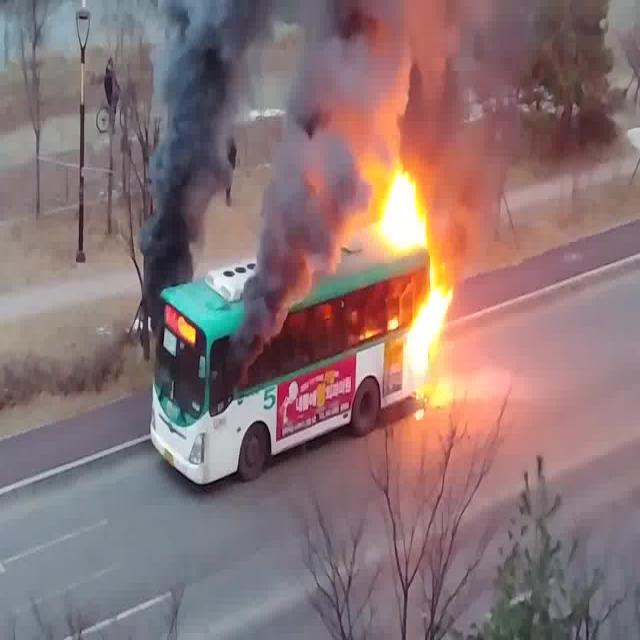fire: (379, 176, 454, 396)
smoke: (230, 0, 408, 399), (135, 0, 231, 345)
